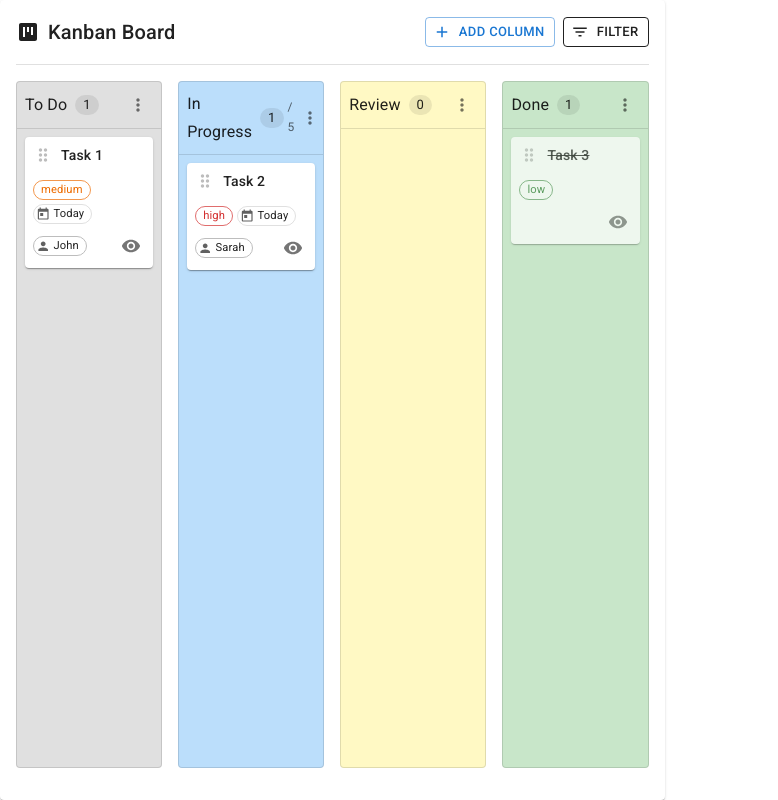
it: TaskKanbanBoard › applies high priority filter when selected
Open filter menu
Click the button "Filter" at (606, 32), box [563,17,649,47]
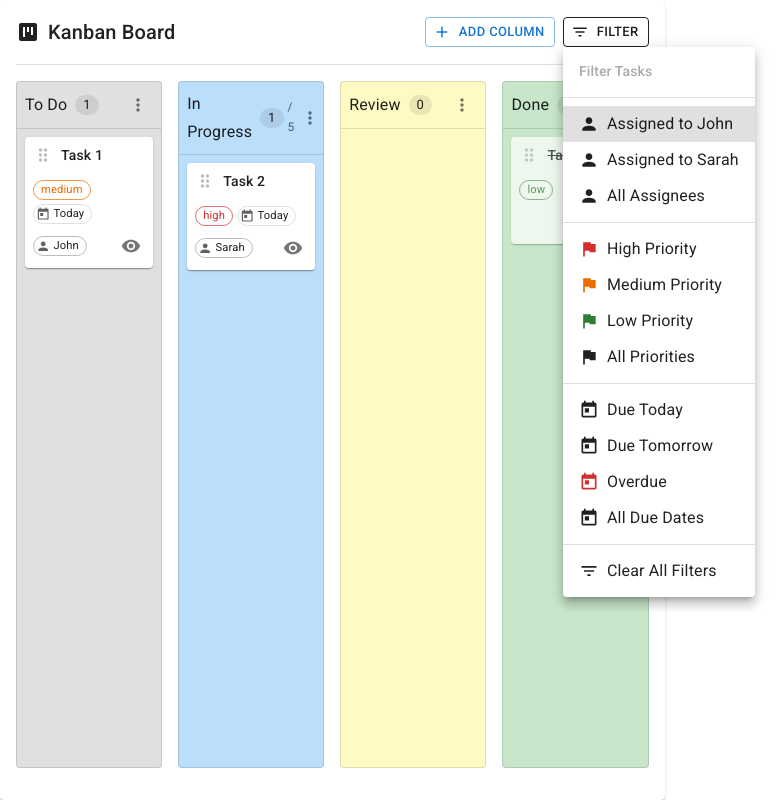
Click high priority filter
Click the menu item "High Priority" at (638, 249), box [579,239,697,259]
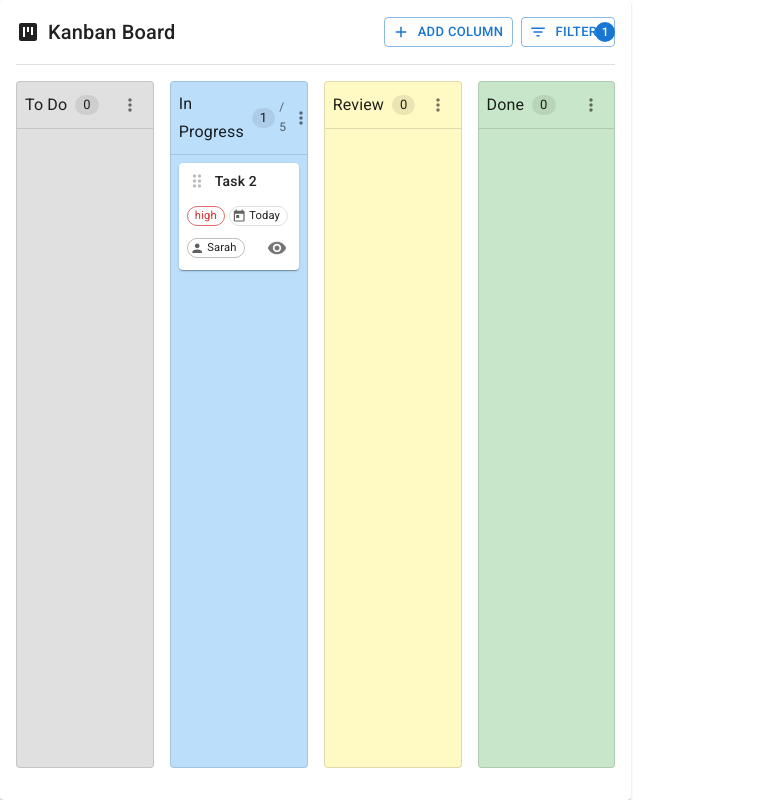
Expected: the text "Task 2" is shown, [215,173,257,189]
Result: the text "Task 1" is gone
Result: the text "Task 3" is gone
